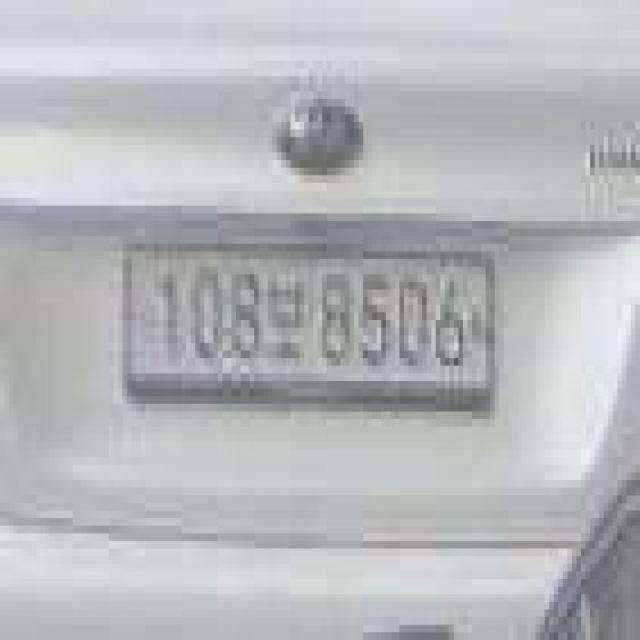illegal_plate: (122, 233, 504, 420)
